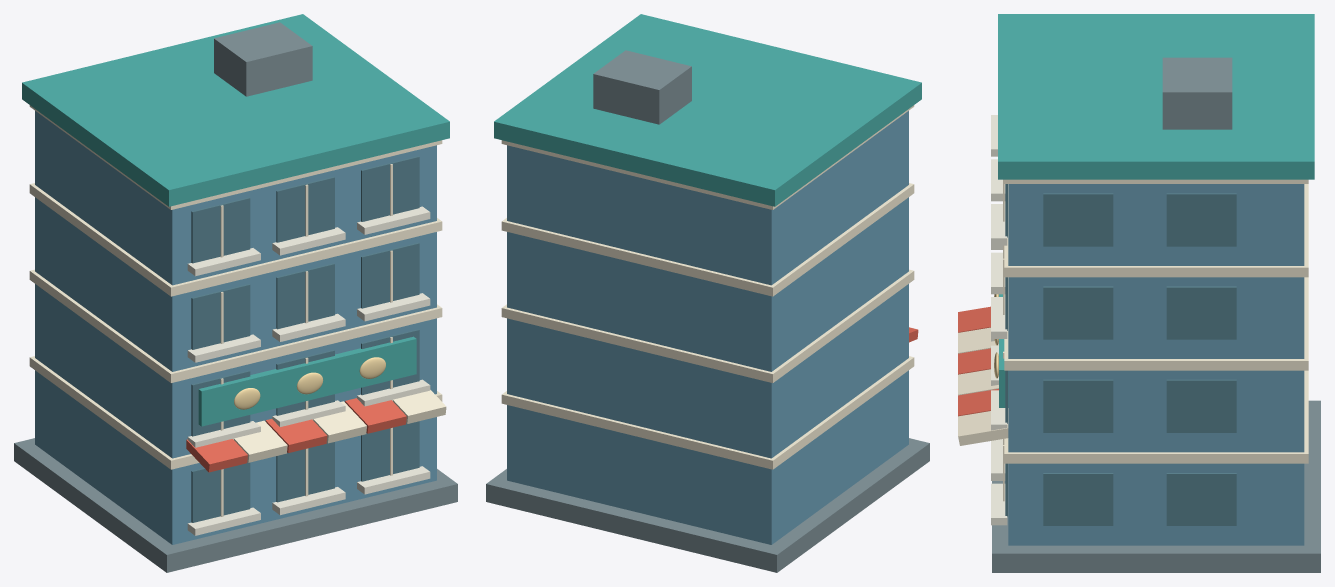
The model's file is apartment.glb.
The picture shows the model from 3 angles, left to right: view 1: azimuth 30°, elevation 25°; view 2: azimuth 150°, elevation 25°; view 3: azimuth 270°, elevation 25°; orthographic projection. The views are drawn at different scales.
Parts seen in each view (by area): view 1: Roof.001, Storey3, Storey2, Storey0.001, Storey1.001, Foundation.001, Shop sign.001, Rooftop unit.001, Trim2, Trim1.001, Window.012, Window.015 (+30 smaller); view 2: Roof.001, Storey0.001, Storey1.001, Storey3, Storey2, Foundation.001, Rooftop unit.001, Trim2, Trim1.001, Trim0.001, Trim3; view 3: Roof.001, Storey0.001, Storey1.001, Storey2, Storey3, Foundation.001, Rooftop unit.001, Trim2, Trim1.001, Trim0.001, SideWindow.008, SideWindow.009 (+20 smaller).
Boxes of the visible parts, box(x1,y1,x2,y2) form: Roof.001: box(22, 14, 449, 206); Storey3: box(35, 111, 436, 285); Storey2: box(35, 197, 436, 371); Storey0.001: box(35, 370, 436, 544); Storey1.001: box(35, 284, 436, 458); Foundation.001: box(14, 438, 457, 572); Shop sign.001: box(198, 336, 416, 426); Rooftop unit.001: box(214, 22, 312, 96); Trim2: box(29, 183, 442, 296); Trim1.001: box(29, 269, 442, 382); Window.012: box(191, 284, 250, 349); Window.015: box(191, 197, 250, 263); Roof.001: box(494, 14, 921, 206); Storey0.001: box(507, 370, 908, 544); Storey1.001: box(507, 284, 908, 458); Storey3: box(507, 111, 908, 285); Storey2: box(507, 197, 908, 371); Foundation.001: box(486, 438, 929, 572); Rooftop unit.001: box(593, 50, 691, 124); Trim2: box(501, 183, 914, 296); Trim1.001: box(501, 269, 914, 382); Trim0.001: box(501, 356, 914, 469); Trim3: box(501, 105, 914, 209); Roof.001: box(998, 14, 1314, 179); Storey0.001: box(1008, 463, 1304, 545); Storey1.001: box(1008, 370, 1304, 452); Storey2: box(1008, 277, 1304, 358); Storey3: box(1008, 184, 1304, 265); Foundation.001: box(992, 400, 1320, 572); Rooftop unit.001: box(1162, 57, 1232, 129); Trim2: box(1004, 184, 1308, 277); Trim1.001: box(1004, 277, 1308, 370); Trim0.001: box(1004, 370, 1308, 463); SideWindow.008: box(1043, 286, 1113, 339); SideWindow.009: box(1166, 286, 1236, 339).
Size of the model in its own units: 4.4 by 5.98 by 4.41.
